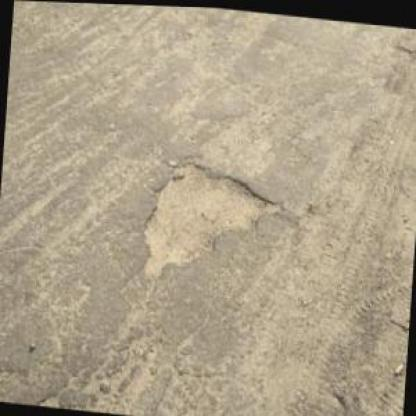pothole: (136, 154, 288, 287)
